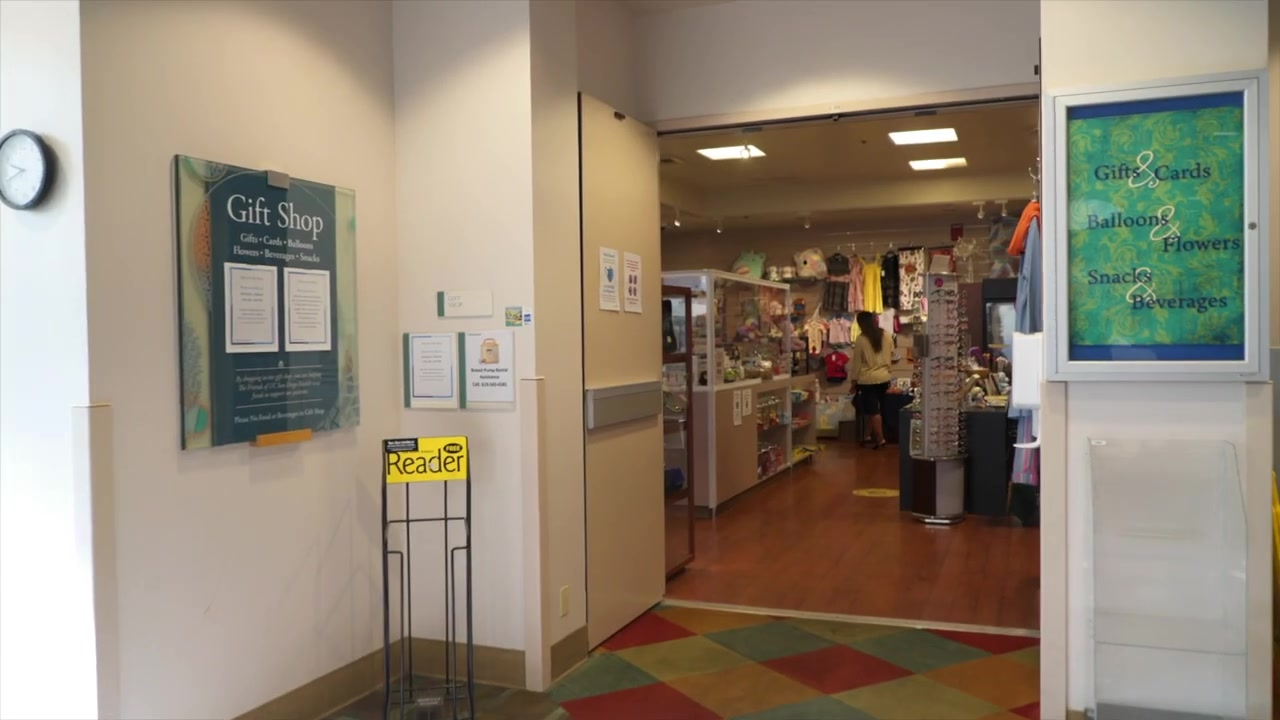dispenser: (1009, 330, 1045, 451)
hallway_assist_bar: (583, 379, 660, 440)
person: (842, 311, 888, 450)
